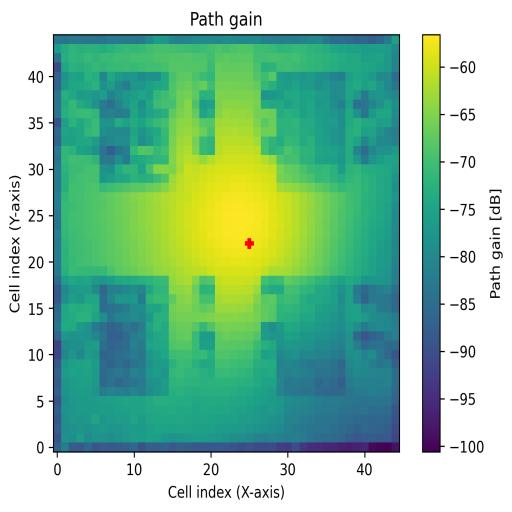Concrete: (276, 72, 346, 194)
Glass: (101, 72, 176, 192)
Metal: (277, 276, 346, 396)
Wood: (92, 276, 170, 399)
